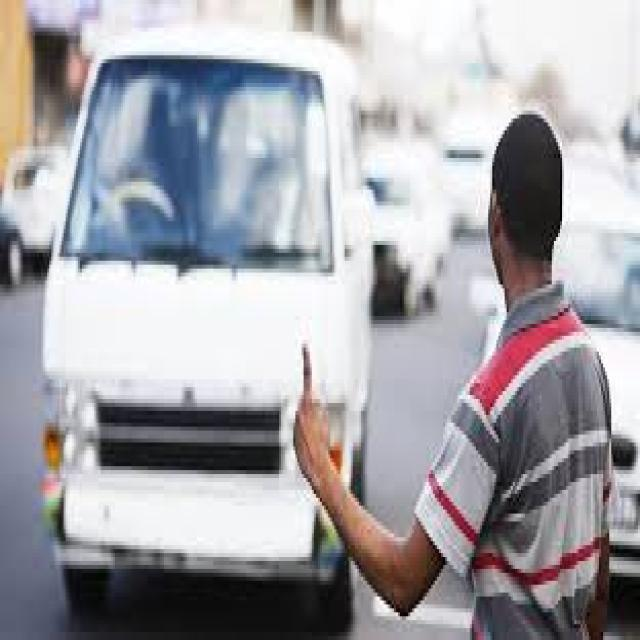MiniBus taxi: (45, 28, 369, 616)
Pedestrians: (295, 107, 636, 628)
